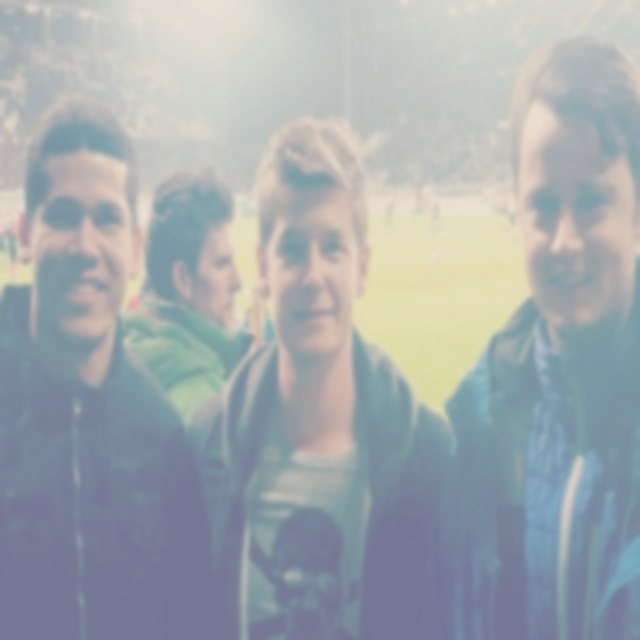pessoa: (186, 111, 467, 638), (415, 22, 639, 638), (0, 92, 226, 638), (114, 162, 257, 440), (357, 115, 523, 238), (124, 134, 260, 216), (0, 134, 35, 278), (246, 286, 272, 340)
